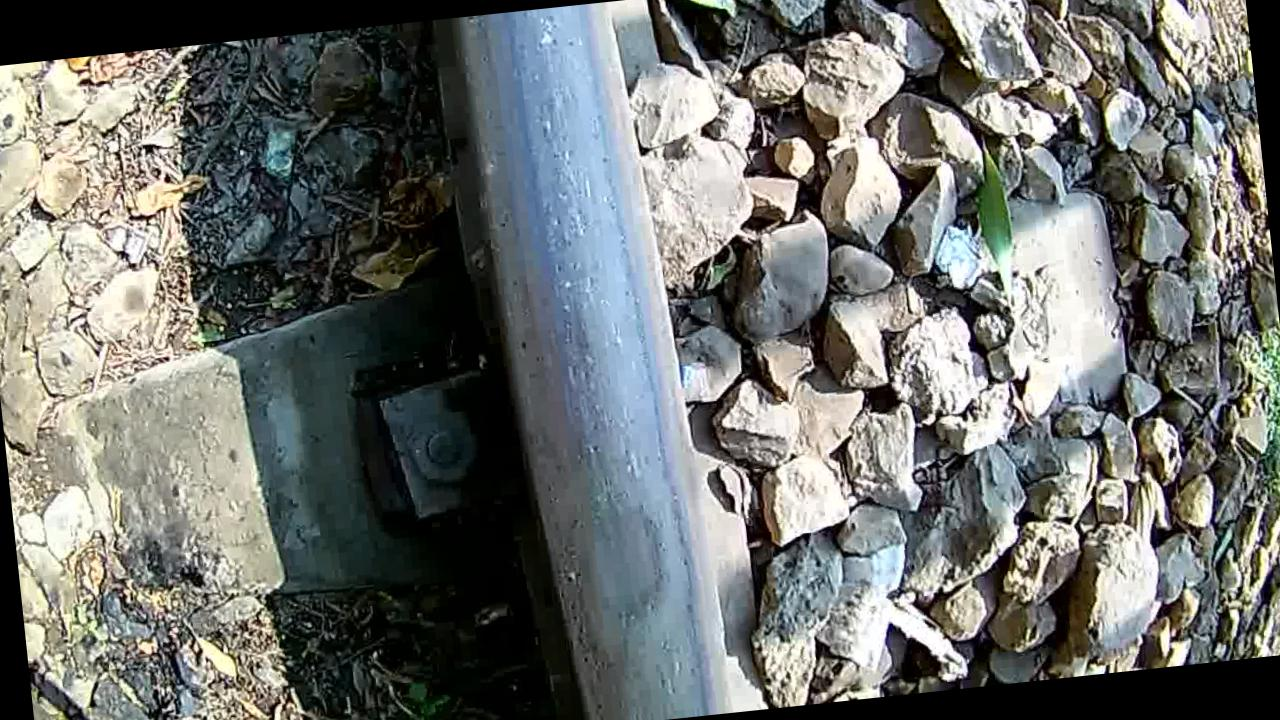bolt_missing: (529, 436, 726, 690)
